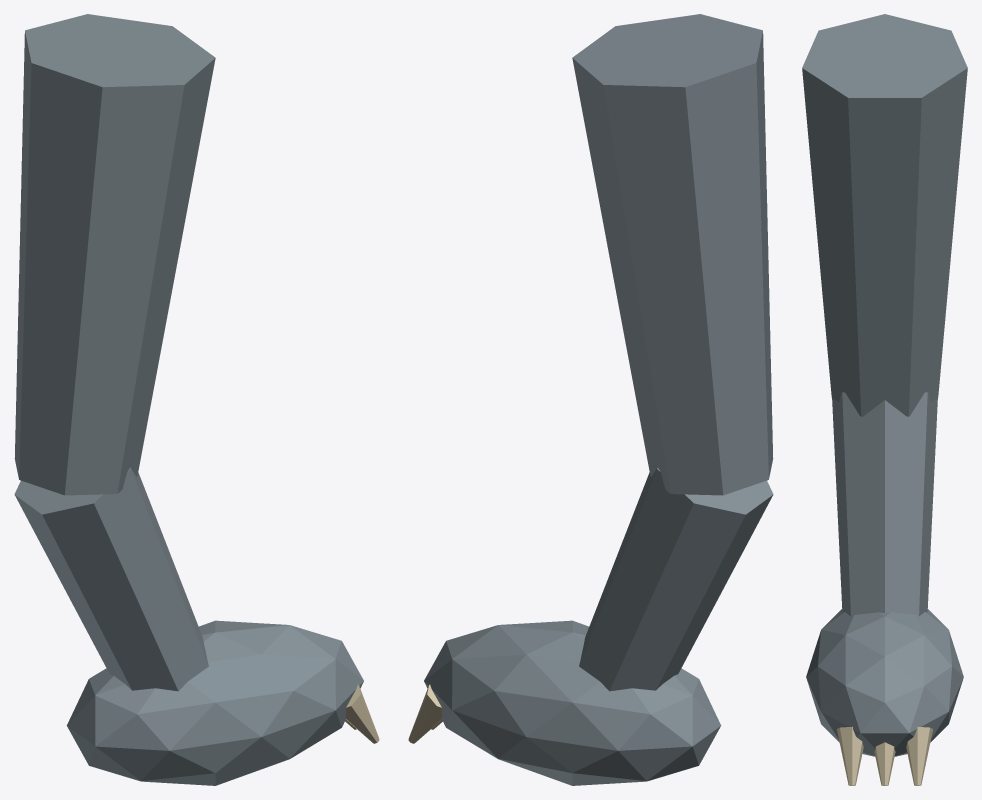
Rendered from SM_Wolf_Leg.fbx.
The picture shows the model from 3 angles, left to right: view 1: azimuth 30°, elevation 25°; view 2: azimuth 150°, elevation 25°; view 3: azimuth 270°, elevation 25°; orthographic projection. The views are drawn at different scales.
Parts seen in each view (by area): view 1: SM_Wolf_Leg; view 2: SM_Wolf_Leg; view 3: SM_Wolf_Leg.
Part boxes in pixels (x1=…): SM_Wolf_Leg: x1=14, y1=14, x2=379, y2=785; SM_Wolf_Leg: x1=408, y1=14, x2=773, y2=785; SM_Wolf_Leg: x1=802, y1=14, x2=967, y2=785.
Size of the model in its own units: 27.73 by 58.76 by 13.65.
